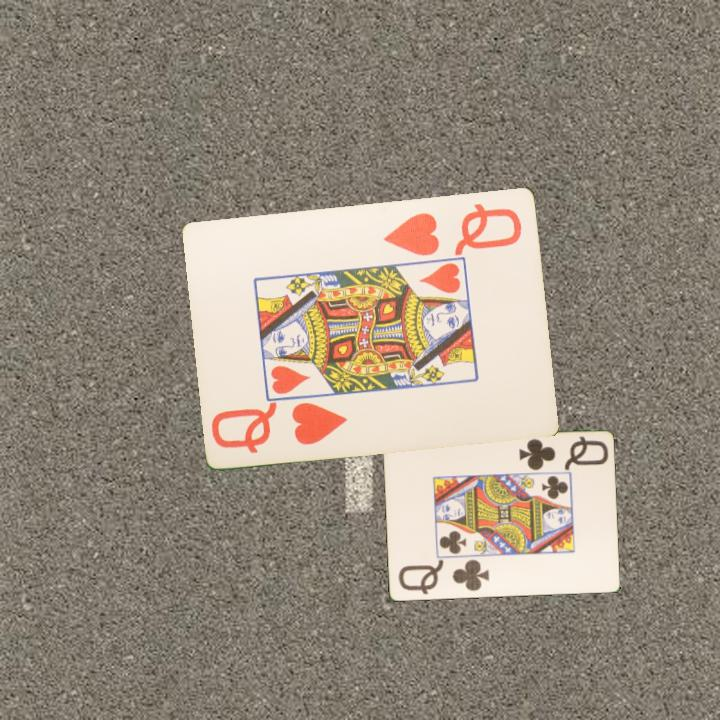Qc: (394, 556, 492, 598), (515, 433, 611, 474)
Qh: (381, 199, 525, 259), (208, 398, 351, 456)
